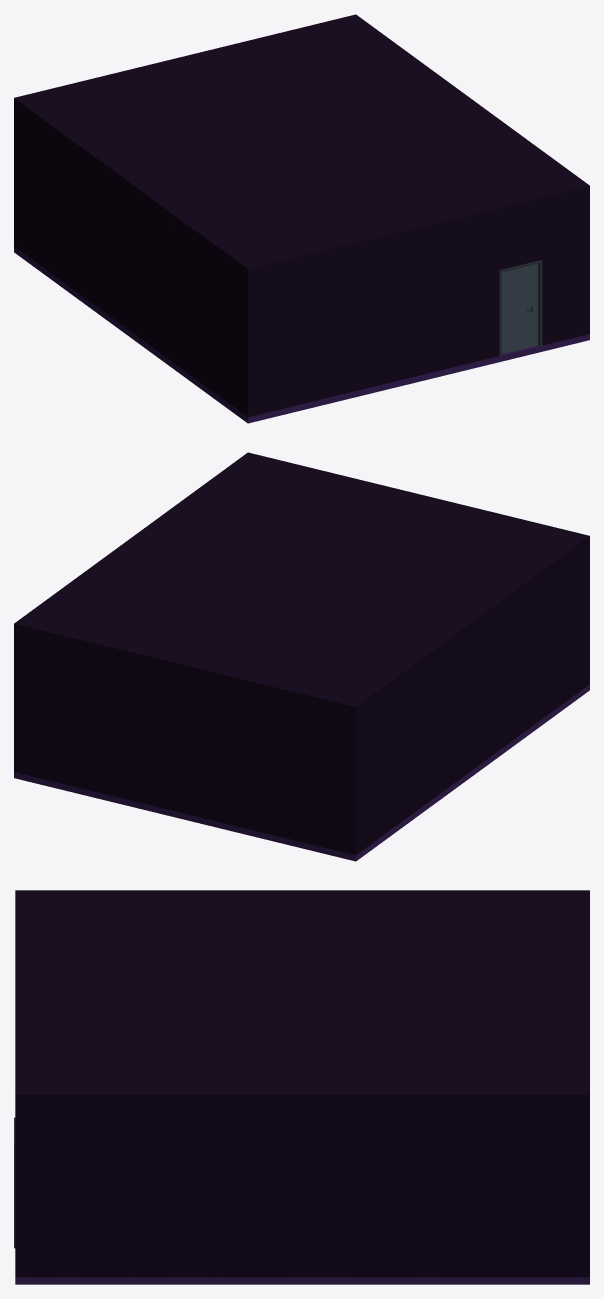
Rendered from Xingtong_Neon_Stage_FullRoom.glb.
The picture shows the model from 3 angles, top to bottom: view 1: azimuth 30°, elevation 25°; view 2: azimuth 150°, elevation 25°; view 3: azimuth 270°, elevation 25°; orthographic projection. The views are drawn at different scales.
Visible parts, largest first — view 1: Envelope_Ceiling_slab, Envelope_Front_left, Envelope_Left_wall, Envelope_Front_right, Envelope_Floor_slab, INFERRED_Entry_leaf_closed, Envelope_Front_header; view 2: Envelope_Ceiling_slab, Envelope_Rear_wall, Envelope_Left_wall, Envelope_Floor_slab, Envelope_Right_wall, Envelope_Front_left; view 3: Envelope_Ceiling_slab, Envelope_Right_wall, Envelope_Floor_slab, Envelope_Front_right.
Part boxes in pixels (x1,y1,x2,y2): Envelope_Ceiling_slab: (14, 14, 589, 277); Envelope_Front_left: (243, 216, 499, 417); Envelope_Left_wall: (14, 106, 243, 413); Envelope_Front_right: (542, 194, 589, 345); Envelope_Floor_slab: (14, 246, 589, 423); INFERRED_Entry_leaf_closed: (502, 264, 538, 354); Envelope_Front_header: (499, 206, 541, 270); Envelope_Ceiling_slab: (14, 452, 589, 715); Envelope_Rear_wall: (21, 634, 348, 853); Envelope_Left_wall: (348, 547, 585, 855); Envelope_Floor_slab: (14, 684, 589, 861); Envelope_Right_wall: (14, 632, 21, 773); Envelope_Front_left: (586, 544, 589, 686); Envelope_Ceiling_slab: (15, 890, 589, 1105); Envelope_Right_wall: (25, 1105, 589, 1277); Envelope_Floor_slab: (15, 1277, 589, 1284); Envelope_Front_right: (15, 1105, 25, 1277).
Size of the model in its own units: 10.44 by 4.5 by 12.4.
16 materials, 14 textured.
